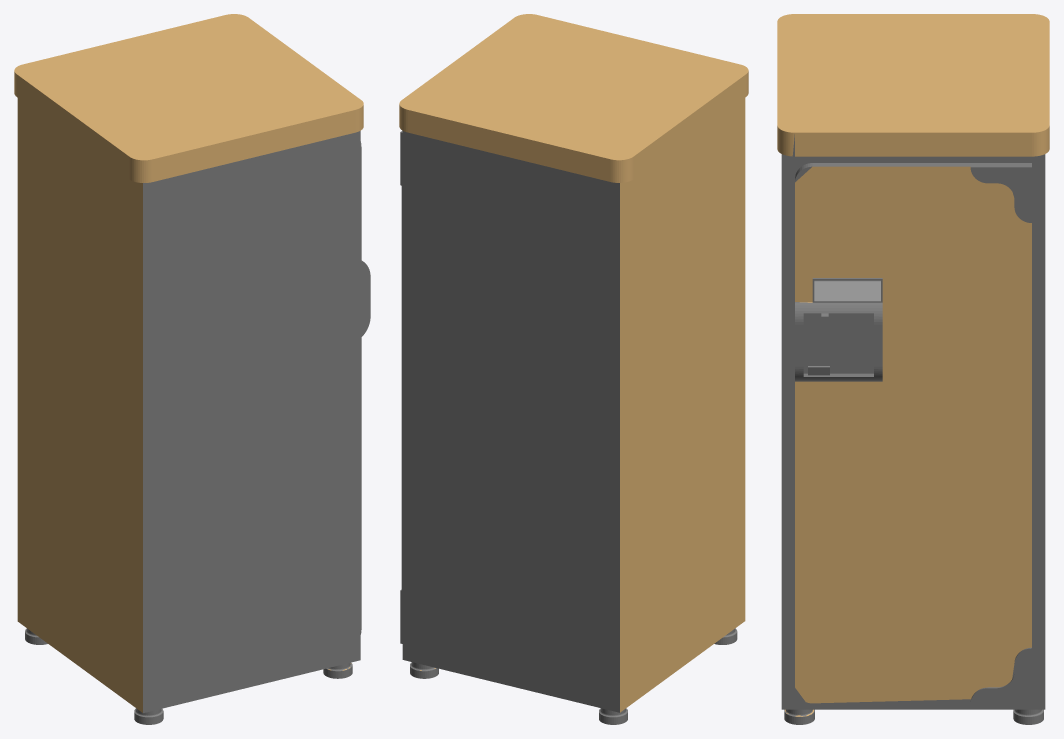
The model's file is 사물함.fbx.
The picture shows the model from 3 angles, left to right: view 1: azimuth 30°, elevation 25°; view 2: azimuth 150°, elevation 25°; view 3: azimuth 270°, elevation 25°; orthographic projection. The views are drawn at different scales.
Visible parts, largest first — view 1: locker; view 2: locker; view 3: locker.
Boxes of the visible parts, left/top/right/bottom form: locker: left=14, top=14, right=370, bottom=724; locker: left=399, top=14, right=748, bottom=724; locker: left=777, top=14, right=1049, bottom=724.
Bounding box in the file's own units: 3325 × 7500 × 3100.
